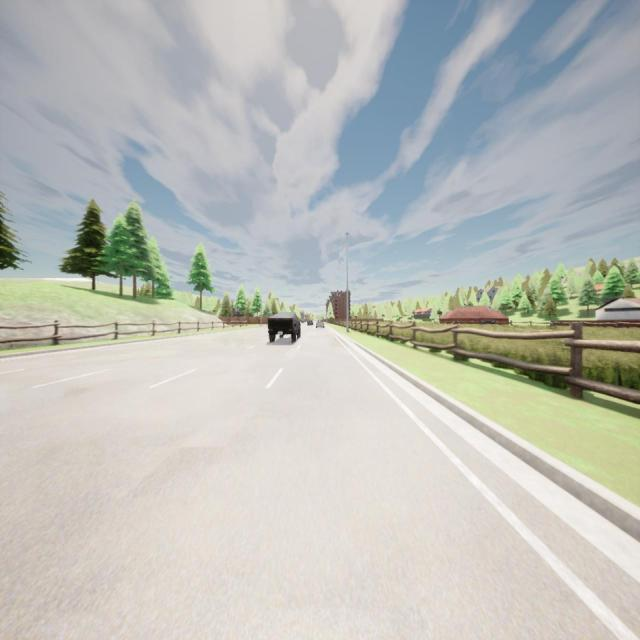Vehicle: (268, 312, 300, 342), (316, 319, 325, 329), (306, 319, 314, 326)
